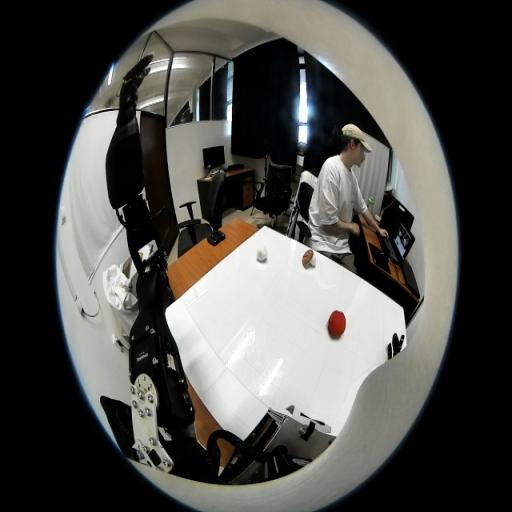LeftHand: (119, 84, 137, 106)
Mushroom: (302, 249, 317, 268)
Onion: (256, 245, 268, 261)
Tomato: (328, 310, 346, 337)
